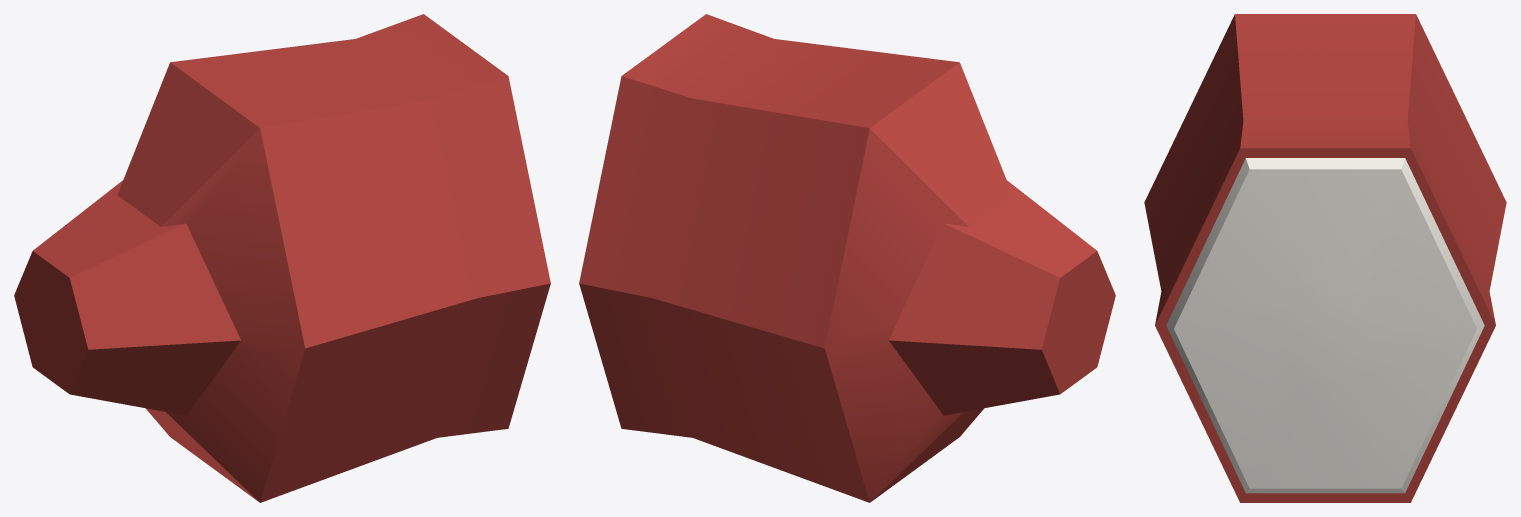
File: bugeye_lod2.glb
The picture shows the model from 3 angles, left to right: view 1: azimuth 30°, elevation 25°; view 2: azimuth 150°, elevation 25°; view 3: azimuth 270°, elevation 25°; orthographic projection.
Parts seen in each view (by area): view 1: bugeye_lod2; view 2: bugeye_lod2; view 3: bugeye_lod2.
Boxes of the visible parts, left/top/right/bottom form: bugeye_lod2: left=14, top=14, right=550, bottom=502; bugeye_lod2: left=579, top=14, right=1115, bottom=502; bugeye_lod2: left=1144, top=14, right=1506, bottom=502.
Bounding box in the file's own units: 2.33 × 1.95 × 1.7.
